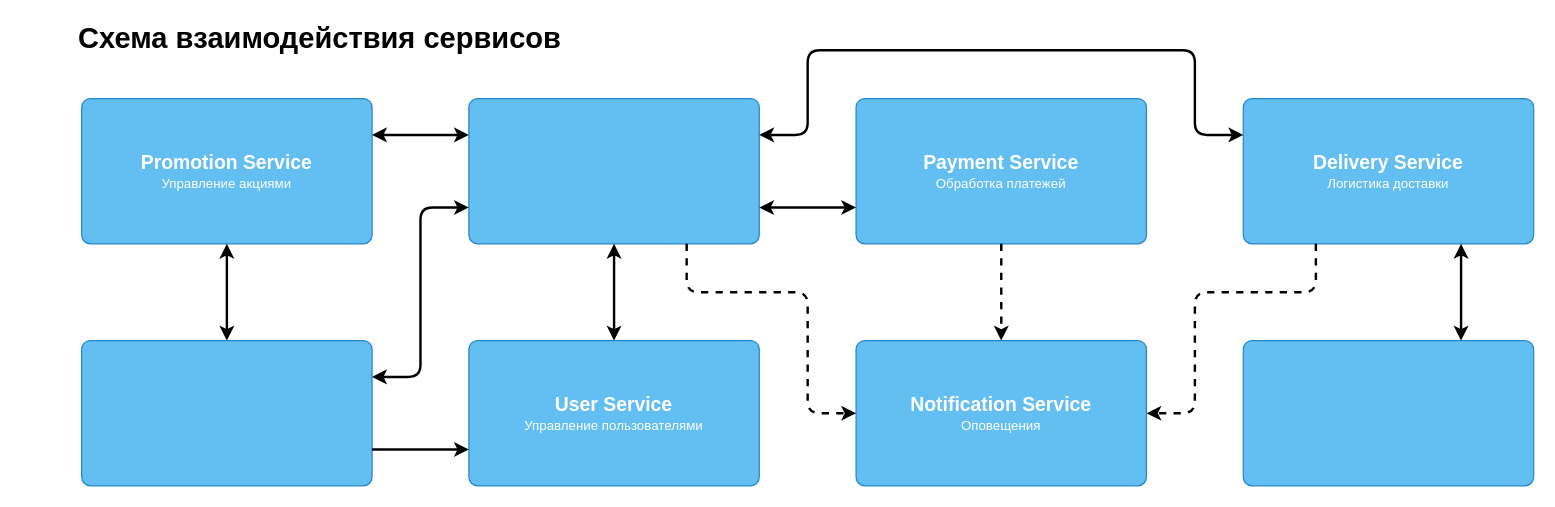
Some shapes in this 1555 by 507 pixel diagram are drawn without their labels. Here are the shapes that lost their labels. From the top down, the box of each, then its label:
(468, 97, 759, 244): Order Service Управление заказами
(80, 339, 372, 486): Store Service Управление магазинами
(1242, 339, 1534, 486): Mapping Service Построение маршрутов
